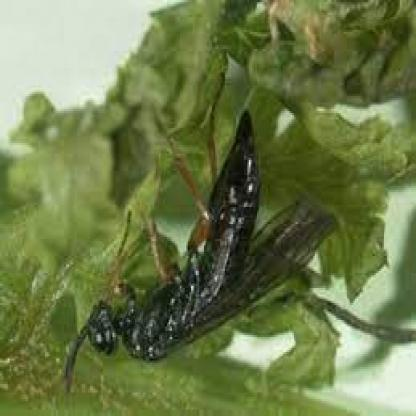sawfly: (47, 94, 339, 400)
